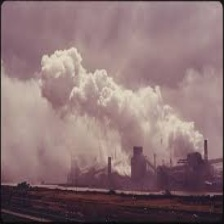smoke: (48, 64, 187, 156)
